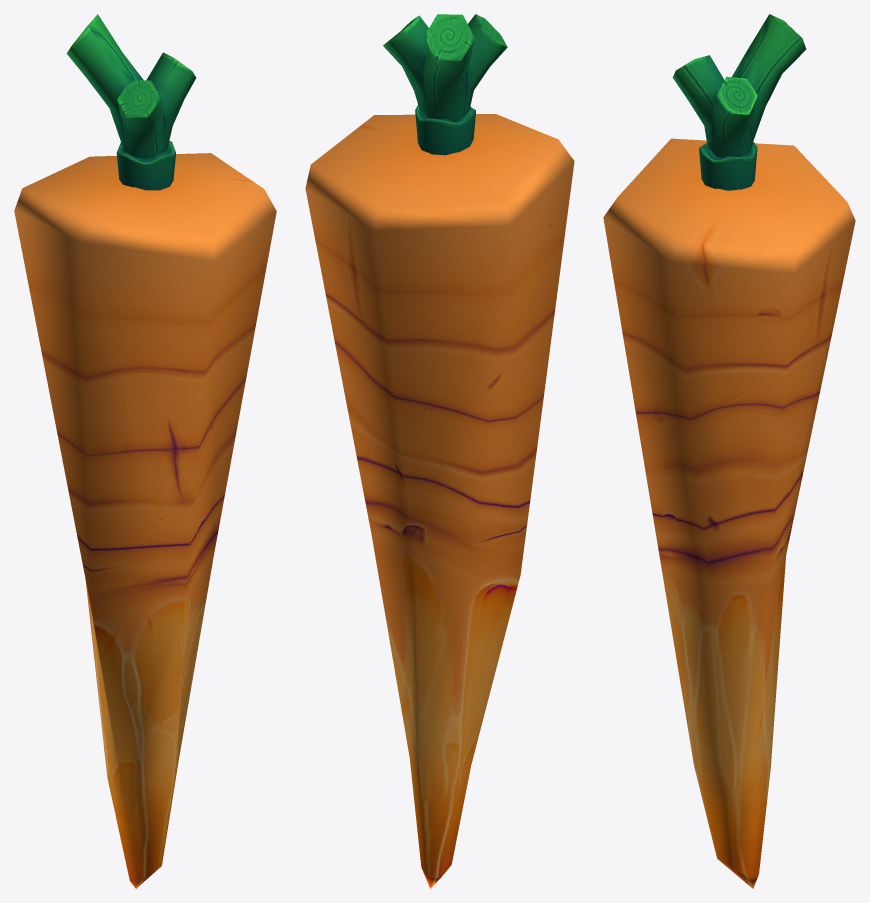
Rendered from CarrotShiv.gltf.
The picture shows the model from 3 angles, left to right: view 1: azimuth 30°, elevation 25°; view 2: azimuth 150°, elevation 25°; view 3: azimuth 270°, elevation 25°; orthographic projection. The views are drawn at different scales.
Parts seen in each view (by area): view 1: CarrotShiv; view 2: CarrotShiv; view 3: CarrotShiv.
Part boxes in pixels (x1=…): CarrotShiv: x1=14, y1=14, x2=276, y2=888; CarrotShiv: x1=305, y1=14, x2=574, y2=888; CarrotShiv: x1=603, y1=14, x2=855, y2=888.
Bounding box in the file's own units: 0.1061 × 0.4388 × 0.117.
1 material, 1 textured.
